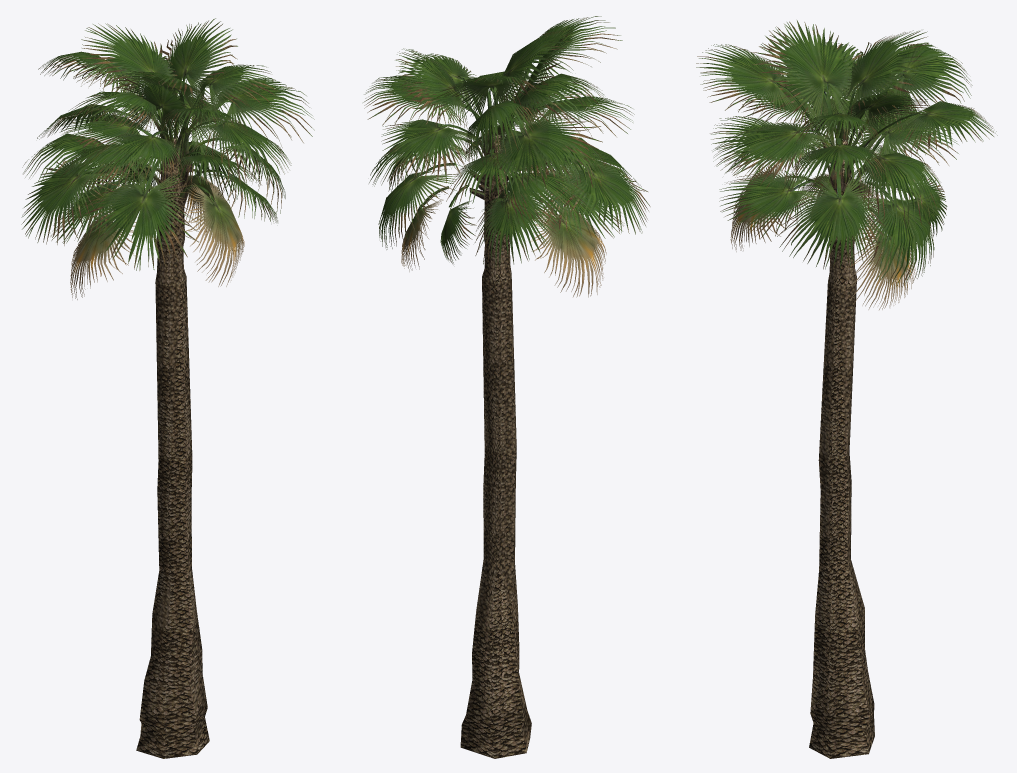
The model's file is palm_04.obj.
3 views of the same model, side by side, from view 1: azimuth 30°, elevation 25°; view 2: azimuth 150°, elevation 25°; view 3: azimuth 270°, elevation 25° (orthographic).
Parts seen in each view (by area): view 1: WC_Palm_Washingtonia_Tree_05.001; view 2: WC_Palm_Washingtonia_Tree_05.001; view 3: WC_Palm_Washingtonia_Tree_05.001.
Boxes of the visible parts, box(x1,y1,x2,y2) form: WC_Palm_Washingtonia_Tree_05.001: box(21, 18, 314, 758); WC_Palm_Washingtonia_Tree_05.001: box(363, 16, 650, 758); WC_Palm_Washingtonia_Tree_05.001: box(696, 20, 997, 758).
Size of the model in its own units: 4 by 9.29 by 3.83.
Materials: 4 (4 with a texture image).
